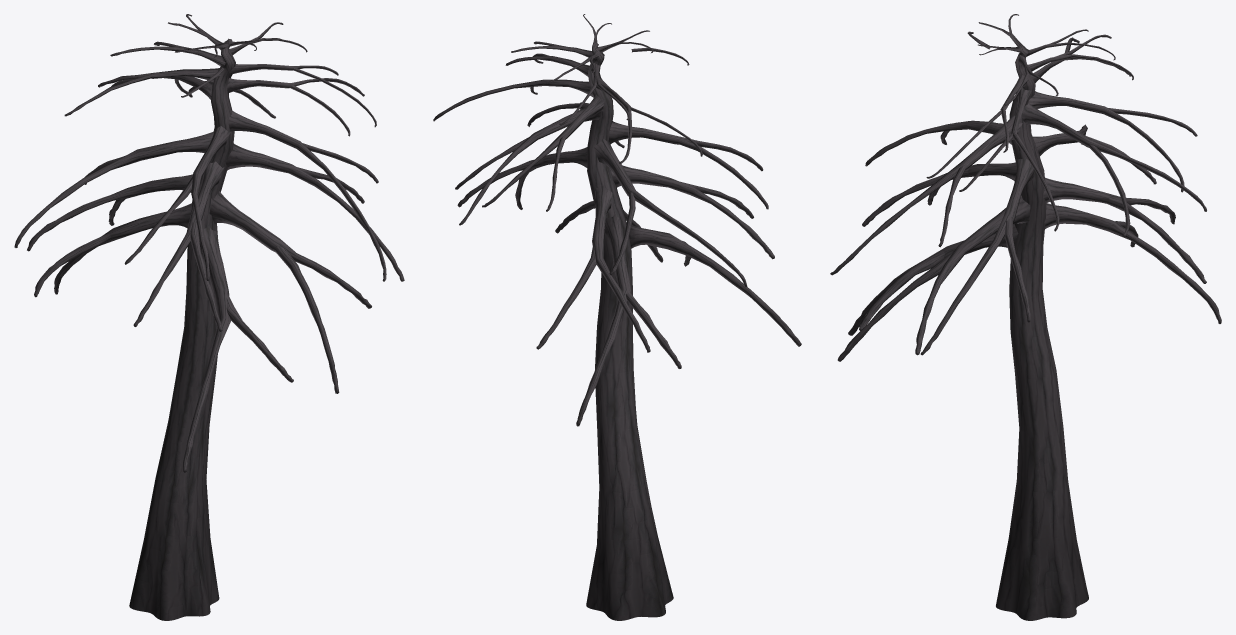
The model's file is quaternius-stylized-nature-dead-tree-4.glb.
3 renders of one model, left to right at view 1: azimuth 30°, elevation 25°; view 2: azimuth 150°, elevation 25°; view 3: azimuth 270°, elevation 25°, orthographic. The views are drawn at different scales.
Parts seen in each view (by area): view 1: DeadTree_4; view 2: DeadTree_4; view 3: DeadTree_4.
Part boxes in pixels (x1=…): DeadTree_4: x1=14, y1=14, x2=404, y2=620; DeadTree_4: x1=433, y1=14, x2=801, y2=620; DeadTree_4: x1=830, y1=14, x2=1221, y2=620.
Bounding box in the file's own units: 7.96 × 12.77 × 7.73.
1 material, 1 textured.
